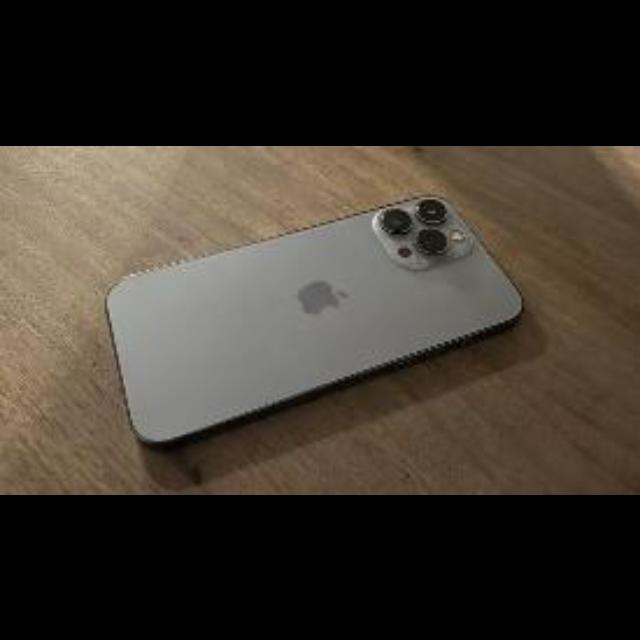Phone: (105, 194, 523, 450)
